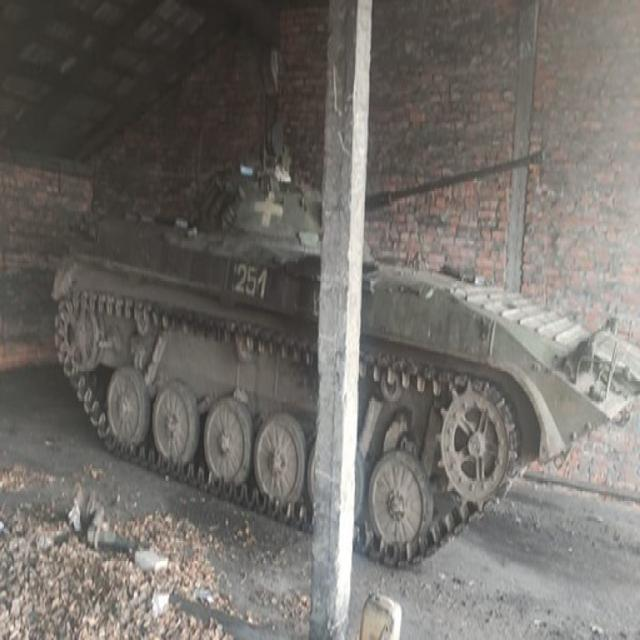APC-IFV: (55, 133, 629, 589)
